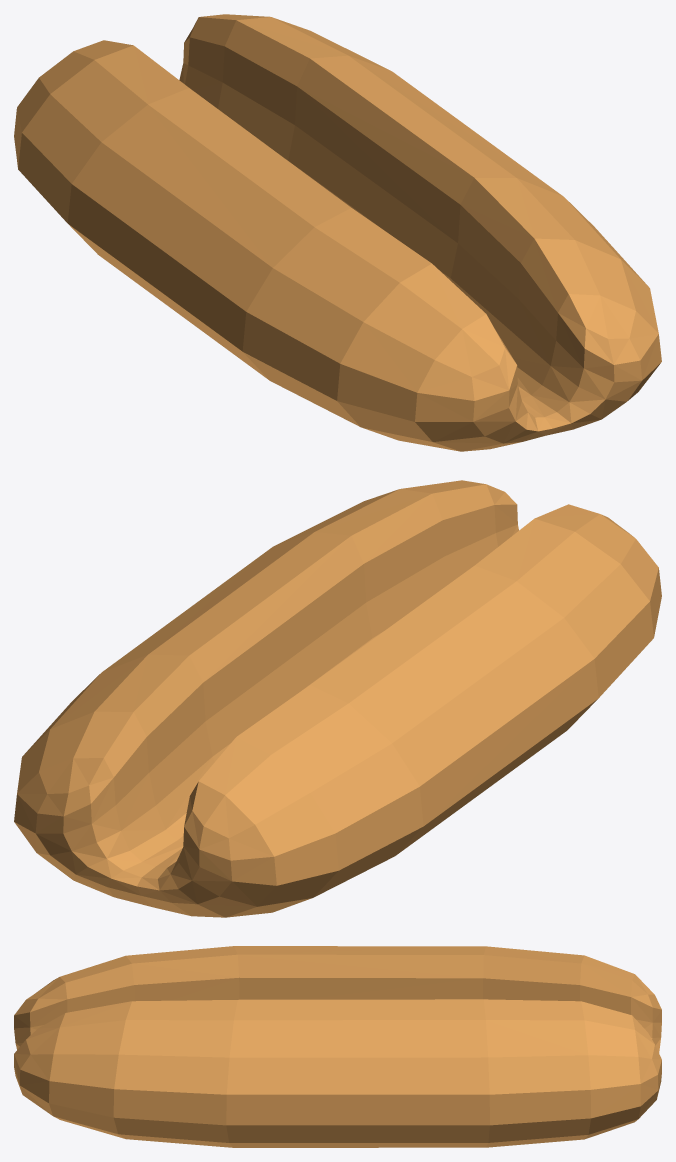
File: Hotdog_Bun.obj
3 views of the same model, one above another, from view 1: azimuth 30°, elevation 25°; view 2: azimuth 150°, elevation 25°; view 3: azimuth 270°, elevation 25° (orthographic). The views are drawn at different scales.
Visible parts, largest first — view 1: Hotdog_Bun; view 2: Hotdog_Bun; view 3: Hotdog_Bun.
Boxes of the visible parts, x1,y1,x2,y2 form: Hotdog_Bun: (14,14,661,451); Hotdog_Bun: (14,480,661,917); Hotdog_Bun: (14,946,661,1147).
Bounding box in the file's own units: 0.7853 × 0.4094 × 1.64.
